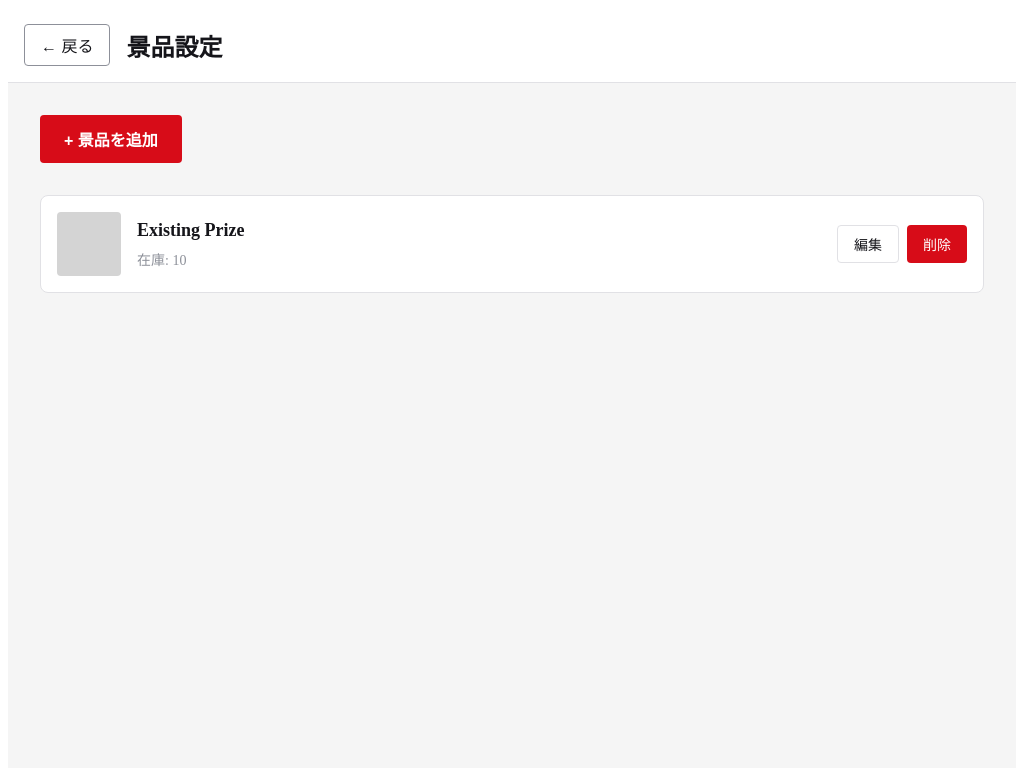
Test: SettingsScreen › 景品編集 › should pre-fill form with existing prize data in edit mode
Click the button with test id "edit-prize-button-0".
click(868, 244)  # box [837, 225, 899, 263]
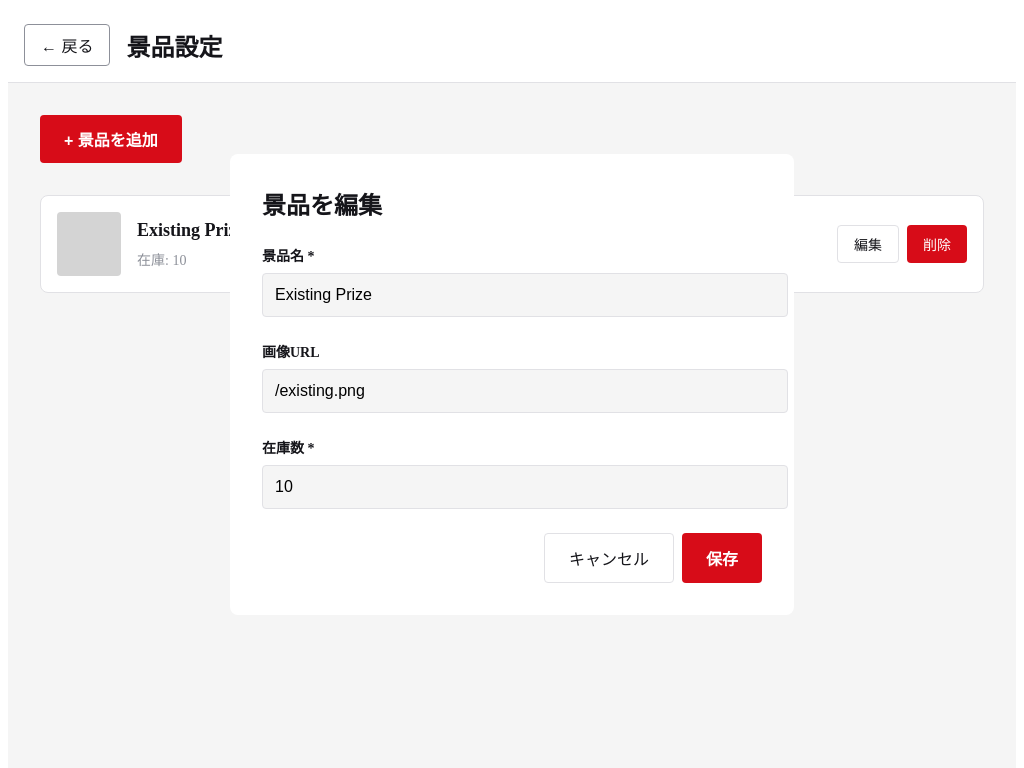
Expected: the field labelled "景品名 *" holds "Existing Prize", [262, 272, 788, 316]
Expected: the field labelled "画像URL" holds "/existing.png", [262, 368, 788, 412]
Expected: the number field labelled "在庫数 *" holds "10", [262, 464, 788, 508]
